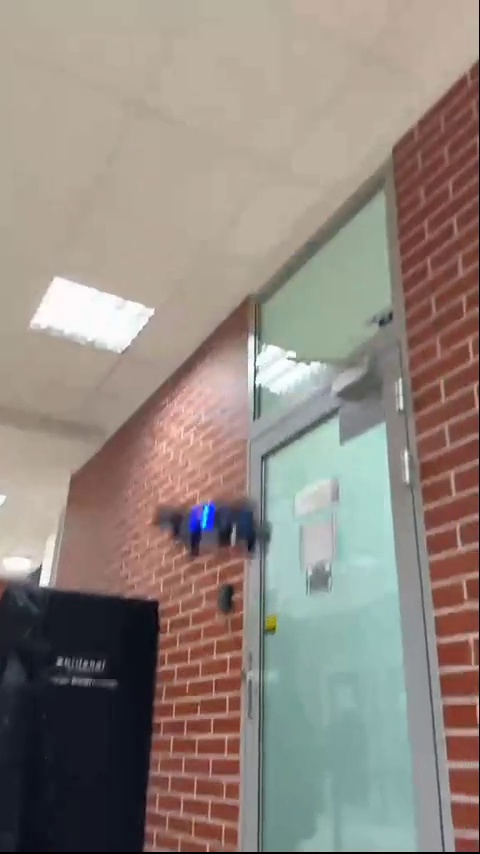drone: (158, 496, 270, 557)
